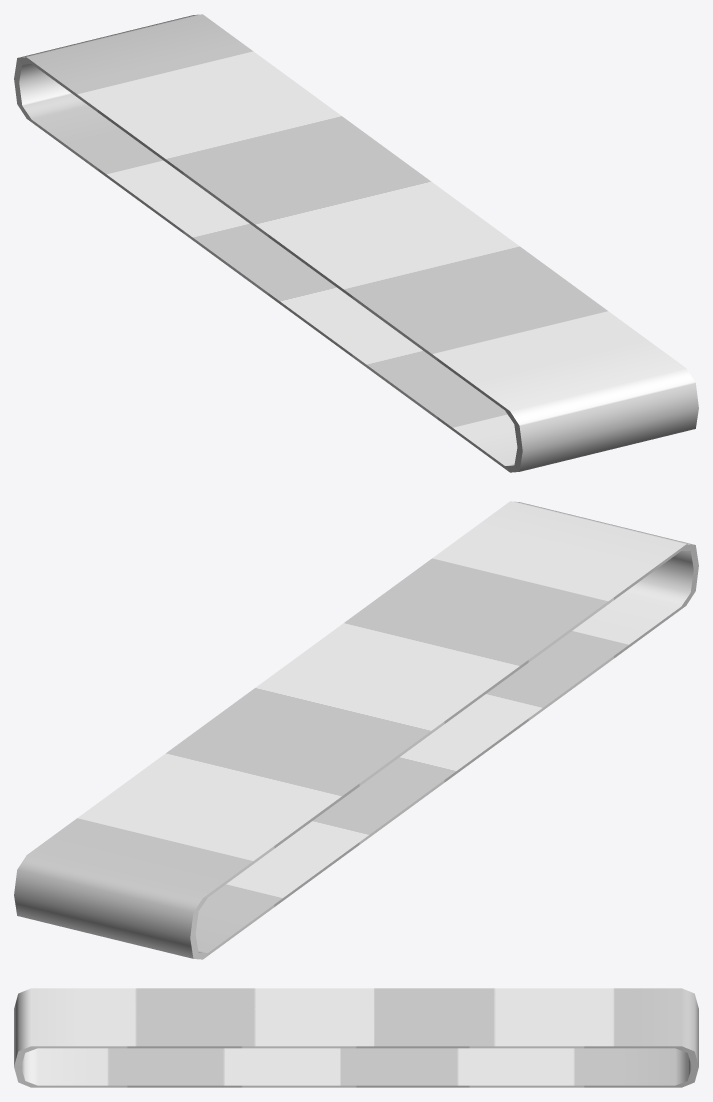
The model's file is Sell_Band (1).fbx.
3 renders of one model, top to bottom at view 1: azimuth 30°, elevation 25°; view 2: azimuth 150°, elevation 25°; view 3: azimuth 270°, elevation 25°, orthographic. The views are drawn at different scales.
Parts seen in each view (by area): view 1: pCube3; view 2: pCube3; view 3: pCube3.
Boxes of the visible parts, x1,y1,x2,y2 form: pCube3: [14, 14, 698, 472]; pCube3: [14, 501, 698, 959]; pCube3: [14, 988, 698, 1087].
Bounding box in the file's own units: 3 × 1 × 15.
